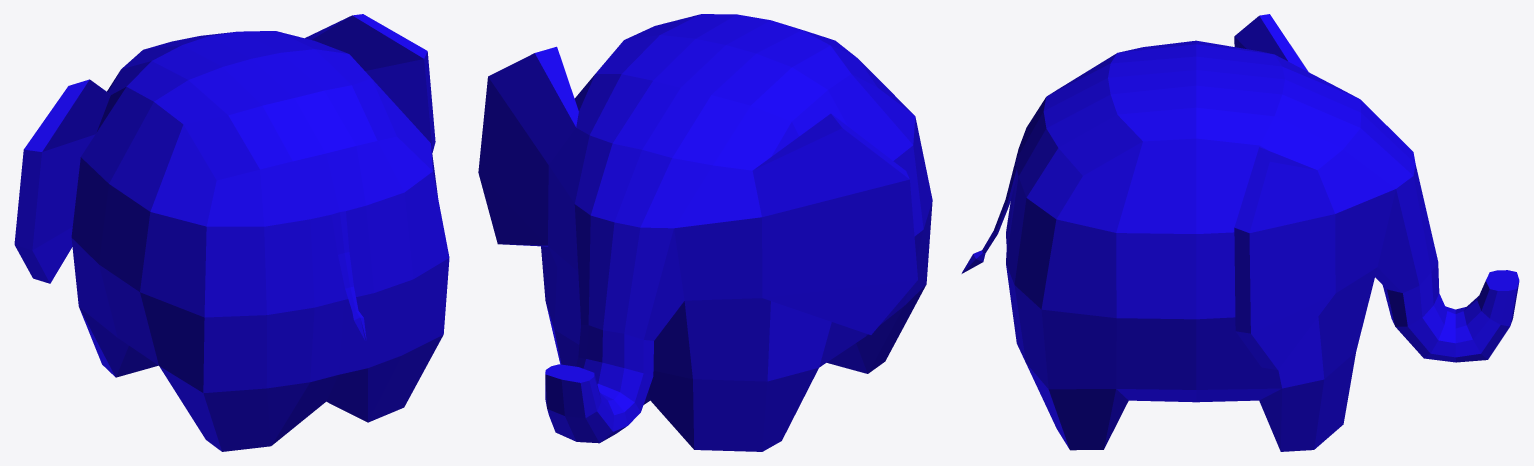
Rendered from Sculpture_Elephant_01.fbx.
3 renders of one model, left to right at view 1: azimuth 30°, elevation 25°; view 2: azimuth 150°, elevation 25°; view 3: azimuth 270°, elevation 25°, orthographic. The views are drawn at different scales.
Parts seen in each view (by area): view 1: Sculpture_Elephant; view 2: Sculpture_Elephant; view 3: Sculpture_Elephant.
Part boxes in pixels (x1,y1,x2,y2): Sculpture_Elephant: [14, 14, 449, 451]; Sculpture_Elephant: [478, 14, 932, 451]; Sculpture_Elephant: [961, 14, 1519, 451].
Size of the model in its own units: 30.35 by 22.45 by 33.93.
